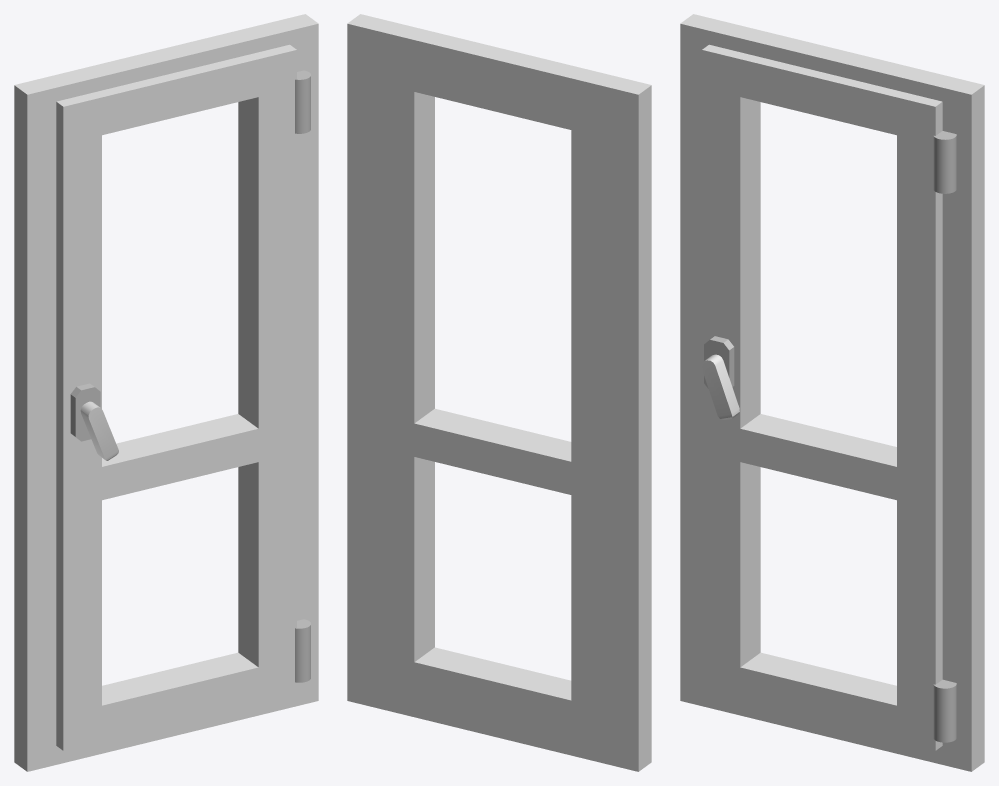
Rendered from Window 2.1.fbx.
3 views of the same model, side by side, from view 1: azimuth 30°, elevation 25°; view 2: azimuth 150°, elevation 25°; view 3: azimuth 330°, elevation 25° (orthographic).
Visible parts, largest first — view 1: Window 2.1; view 2: Window 2.1; view 3: Window 2.1.
Part boxes in pixels (x1=…): Window 2.1: x1=14, y1=14, x2=318, y2=771; Window 2.1: x1=347, y1=14, x2=651, y2=771; Window 2.1: x1=680, y1=14, x2=984, y2=771.
Bounding box in the file's own units: 198 × 439 × 39.12.
